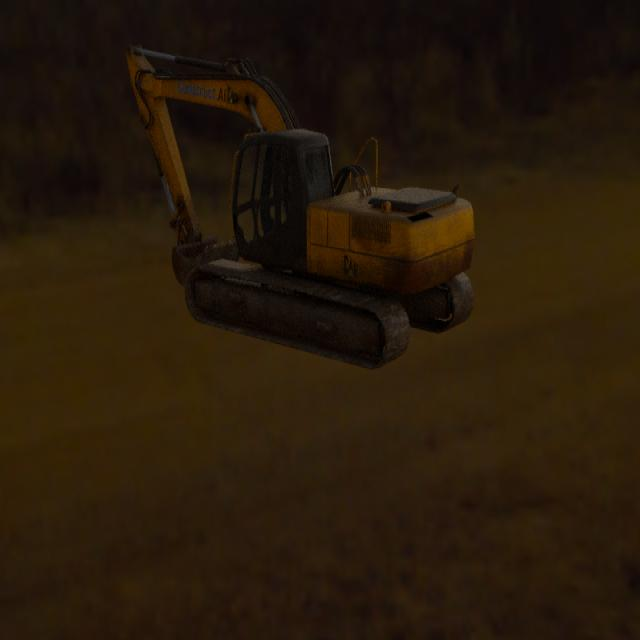excavator: (125, 44, 475, 369)
